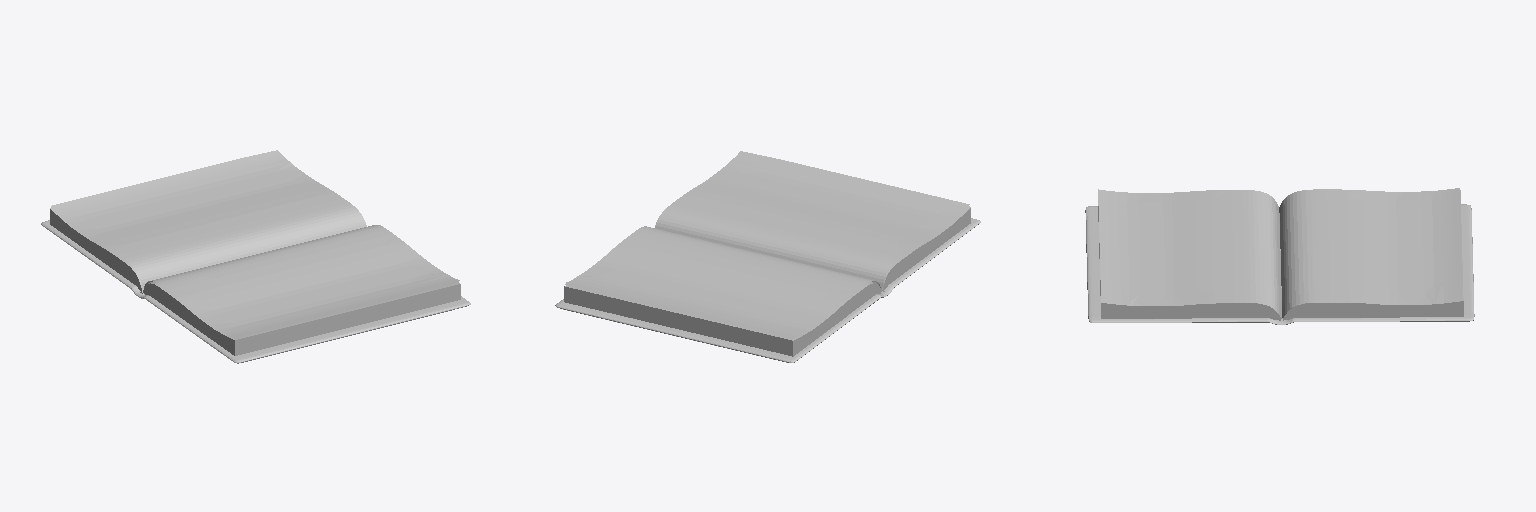
Rendered from help.obj.
3 views of the same model, side by side, from view 1: azimuth 30°, elevation 25°; view 2: azimuth 150°, elevation 25°; view 3: azimuth 270°, elevation 25° (orthographic).
Parts seen in each view (by area): view 1: Book_OBJ; view 2: Book_OBJ; view 3: Book_OBJ.
Boxes of the visible parts, box(x1,y1,x2,y2) form: Book_OBJ: box(41, 150, 470, 363); Book_OBJ: box(555, 151, 980, 362); Book_OBJ: box(1085, 188, 1474, 324).
Bounding box in the file's own units: 4.8 × 0.463 × 6.69.